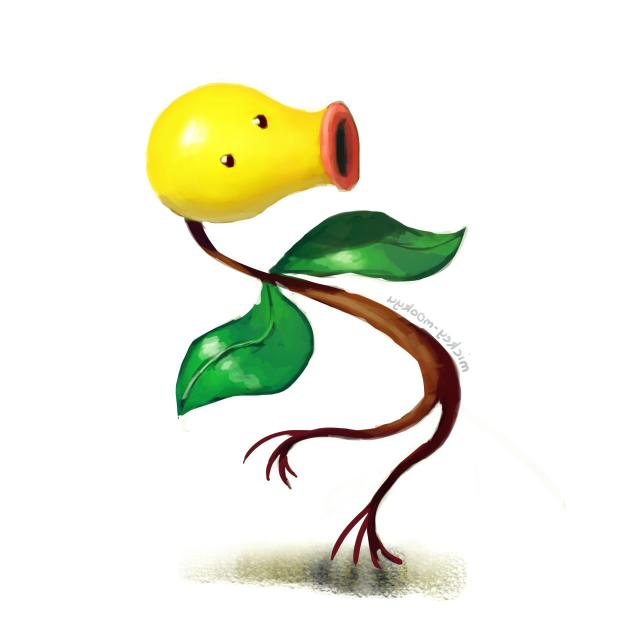Bellsprout: (145, 83, 466, 528)
